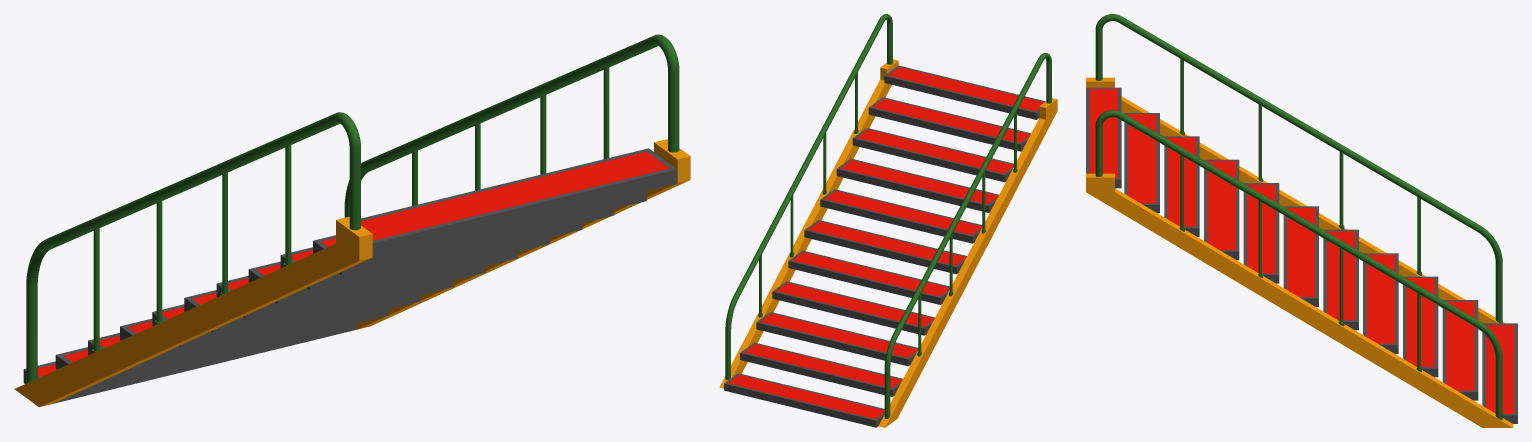
Rendered from Prop026.fbx.
The picture shows the model from 3 angles, left to right: view 1: azimuth 30°, elevation 25°; view 2: azimuth 150°, elevation 25°; view 3: azimuth 270°, elevation 25°; orthographic projection. The views are drawn at different scales.
Parts seen in each view (by area): view 1: Ladder005; view 2: Ladder005; view 3: Ladder005.
Boxes of the visible parts, left/top/right/bottom form: Ladder005: left=14, top=34, right=690, bottom=407; Ladder005: left=719, top=14, right=1057, bottom=427; Ladder005: left=1086, top=14, right=1517, bottom=427.
Size of the model in its own units: 200 by 294 by 365.
